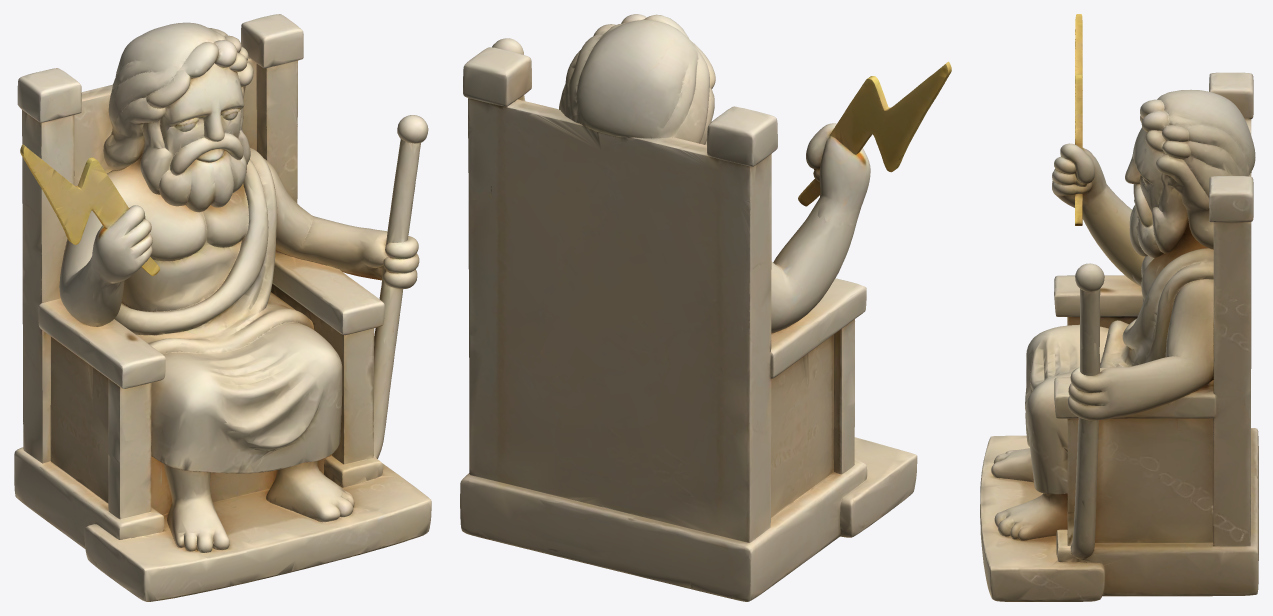
Rendered from zeus.glb.
The picture shows the model from 3 angles, left to right: view 1: azimuth 30°, elevation 25°; view 2: azimuth 150°, elevation 25°; view 3: azimuth 270°, elevation 25°; orthographic projection. The views are drawn at different scales.
Parts seen in each view (by area): view 1: model; view 2: model; view 3: model.
Boxes of the visible parts, x1,y1,x2,y2 form: model: (14, 14, 431, 601); model: (460, 14, 951, 601); model: (980, 14, 1258, 601).
Bounding box in the file's own units: 1.58 × 1.71 × 0.9771.
1 material, 1 textured.
